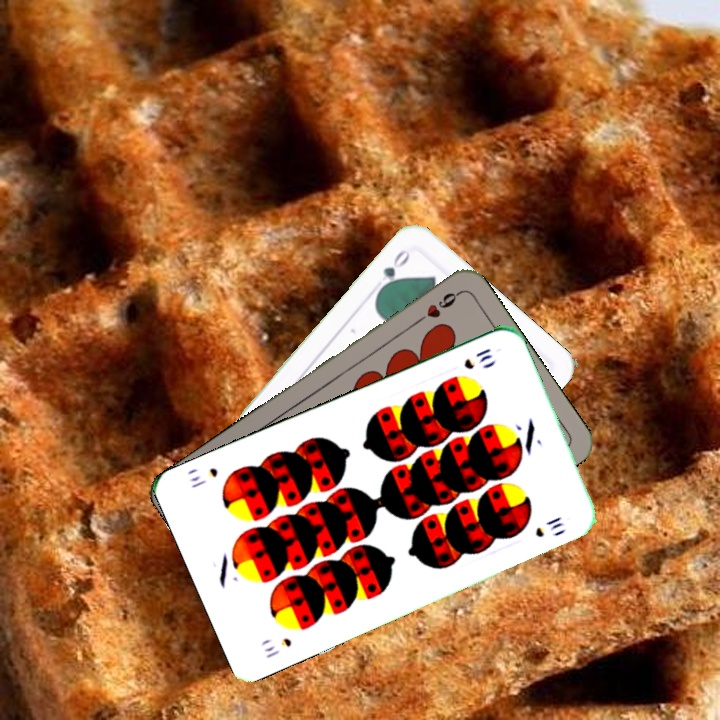GO: (374, 245, 413, 296)
H9: (411, 287, 463, 326)
S10: (459, 344, 495, 372), (260, 633, 294, 661)
